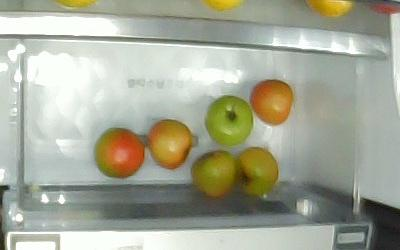tomato: (94, 127, 144, 179), (204, 95, 253, 146), (148, 118, 192, 171), (191, 150, 236, 199), (250, 79, 294, 126), (237, 146, 280, 194)
